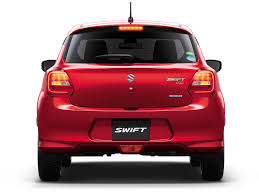Swift: (34, 7, 228, 181)
